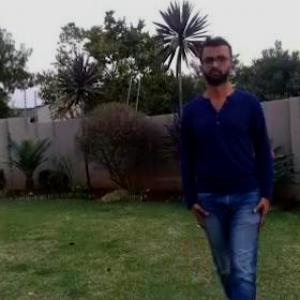follow: (186, 29, 274, 299)
